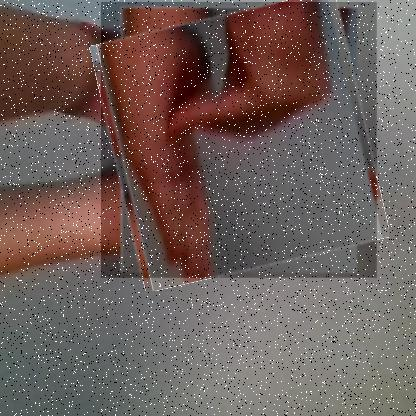Z: (101, 2, 378, 279)
